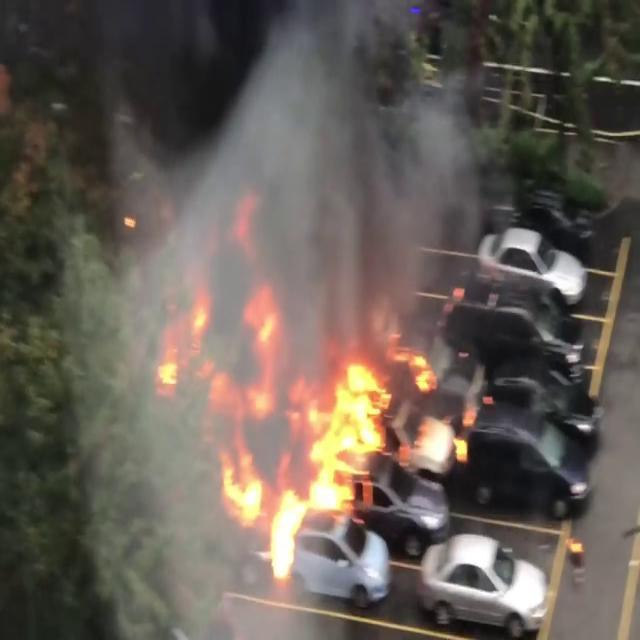Fire: (193, 303, 452, 546)
Smoke: (238, 1, 504, 350)
